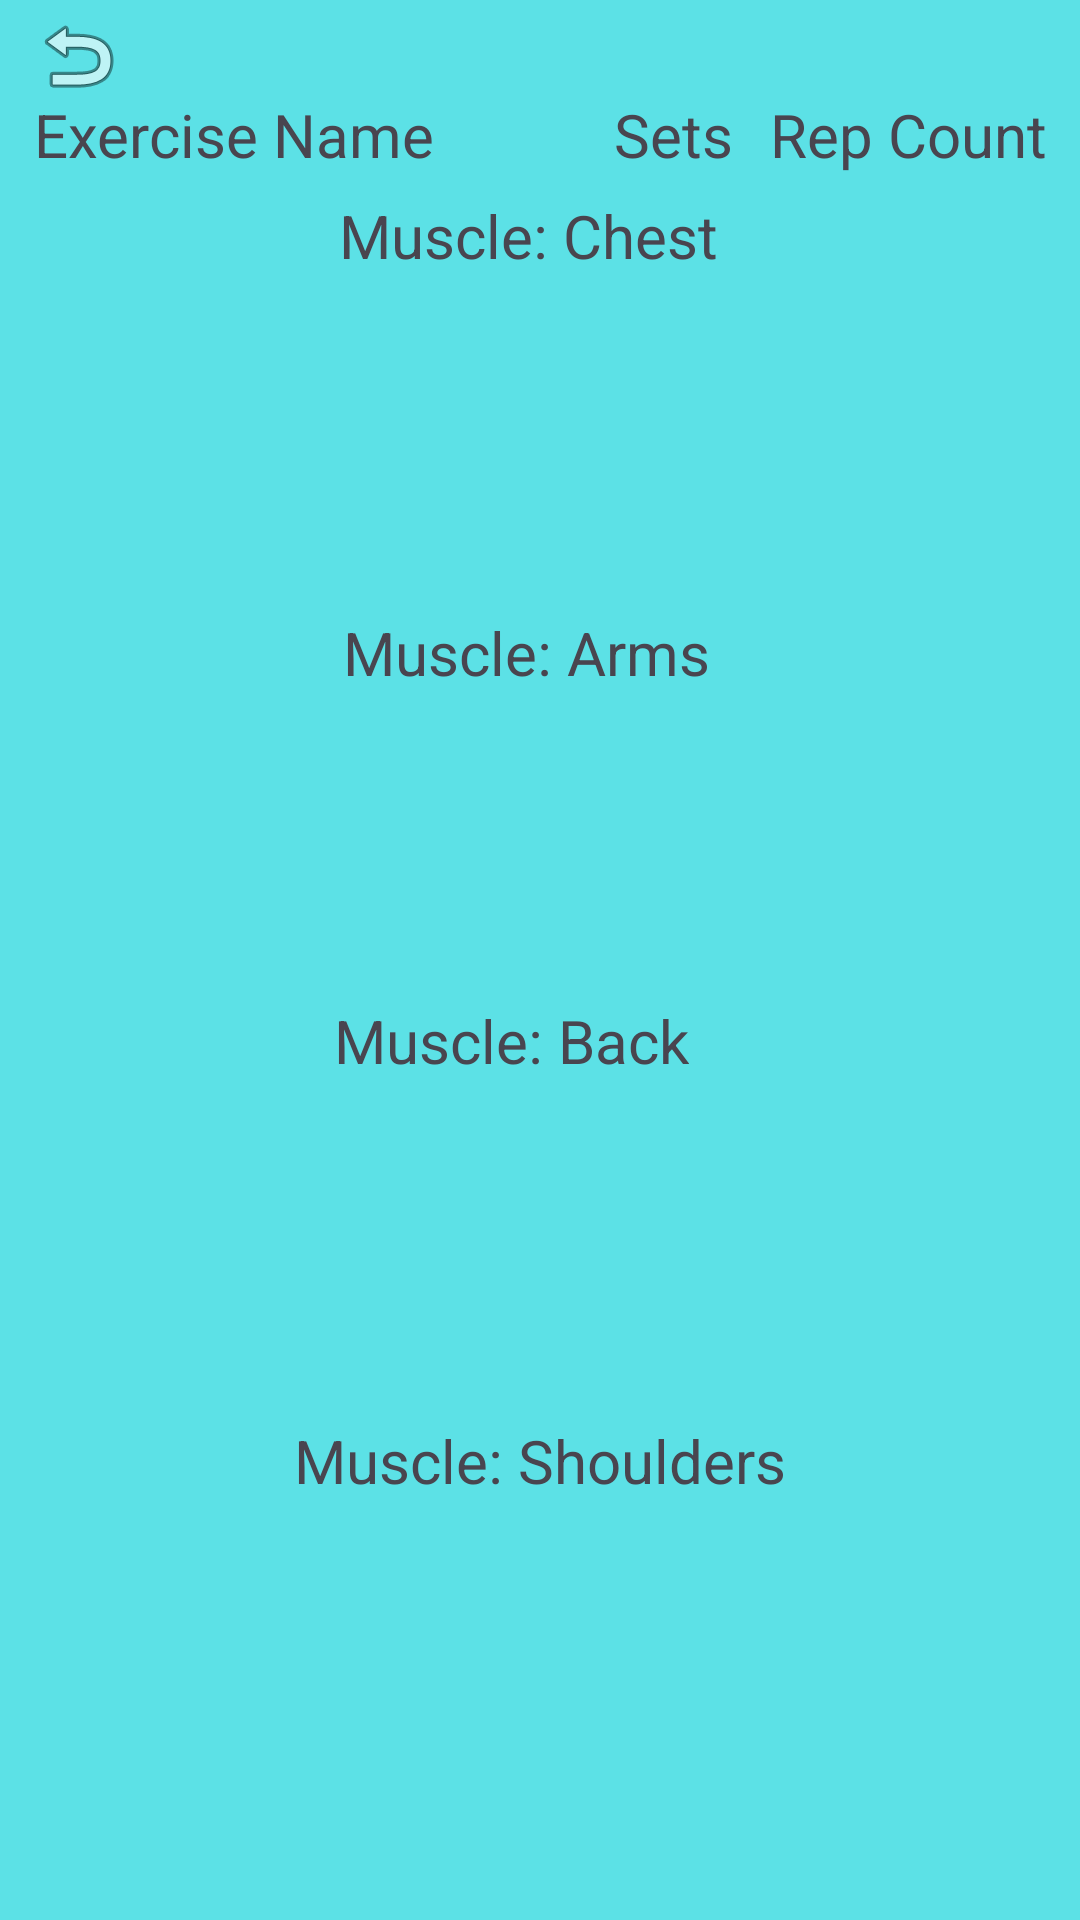

Screen size 1080px x 1920px. Icon name, then its box in pixels as bbox=[x1, y1, x2, y2]:
revert: bbox=[45, 25, 114, 88]
